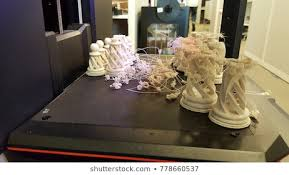fail: (104, 28, 189, 99), (242, 93, 267, 135), (201, 26, 228, 46)
